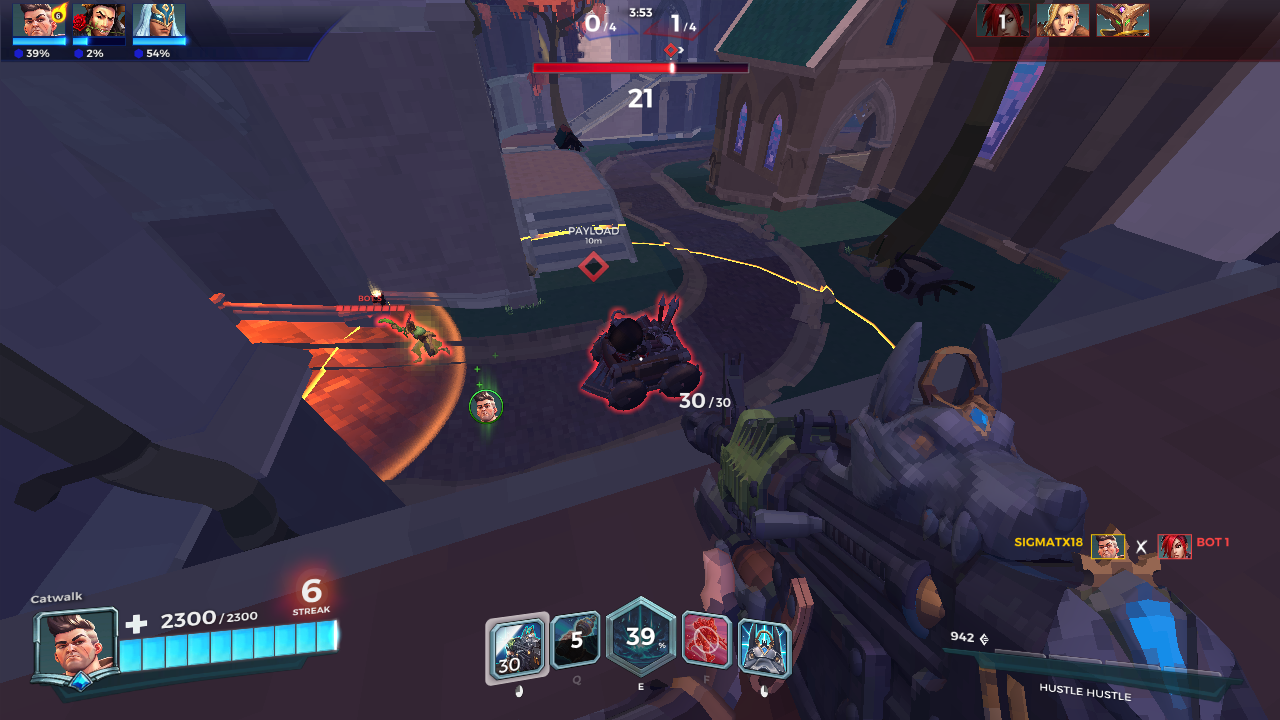model: (393, 314, 446, 368)
